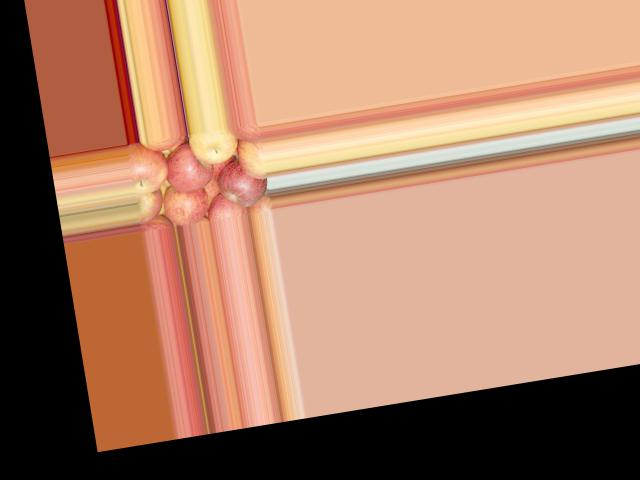apple: (159, 179, 214, 226)
